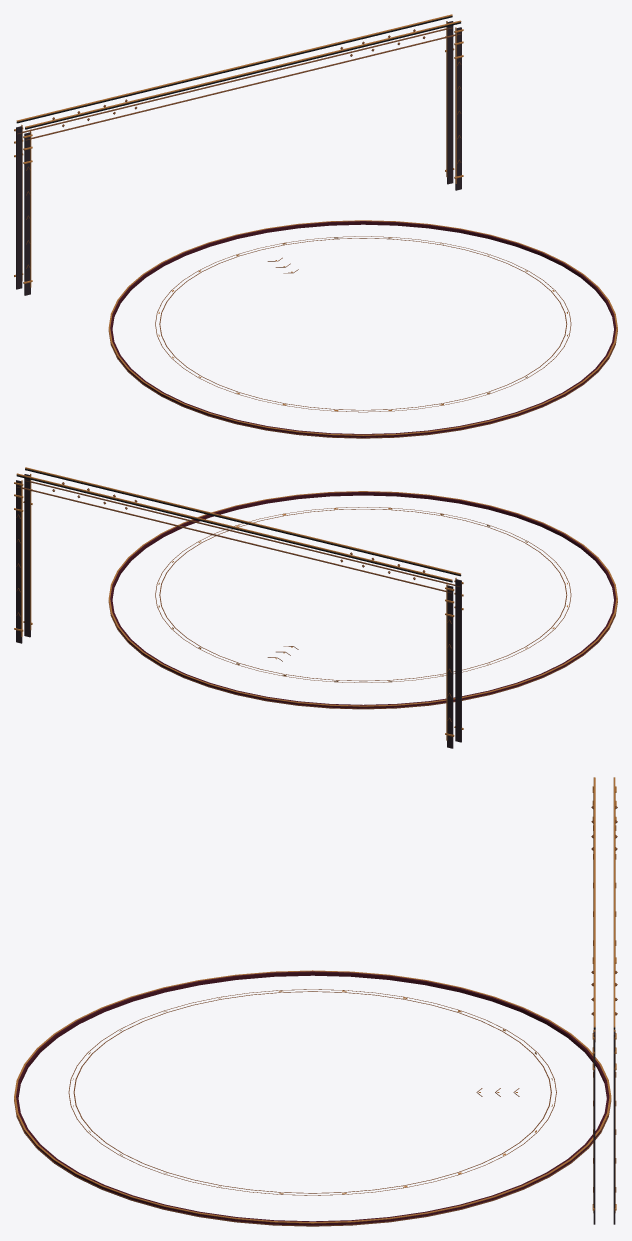
Rendered from stage-relief.glb.
3 views of the same model, one above another, from view 1: azimuth 30°, elevation 25°; view 2: azimuth 150°, elevation 25°; view 3: azimuth 270°, elevation 25° (orthographic). The views are drawn at different scales.
Visible parts, largest first — view 1: stage-relief; view 2: stage-relief; view 3: stage-relief.
Boxes of the visible parts, <box> form: stage-relief: <box>14,14,617,438</box>; stage-relief: <box>14,467,617,748</box>; stage-relief: <box>14,777,617,1226</box>.
Size of the model in its own units: 28.25 by 10.36 by 28.56.
Materials: 1 (1 with a texture image).
